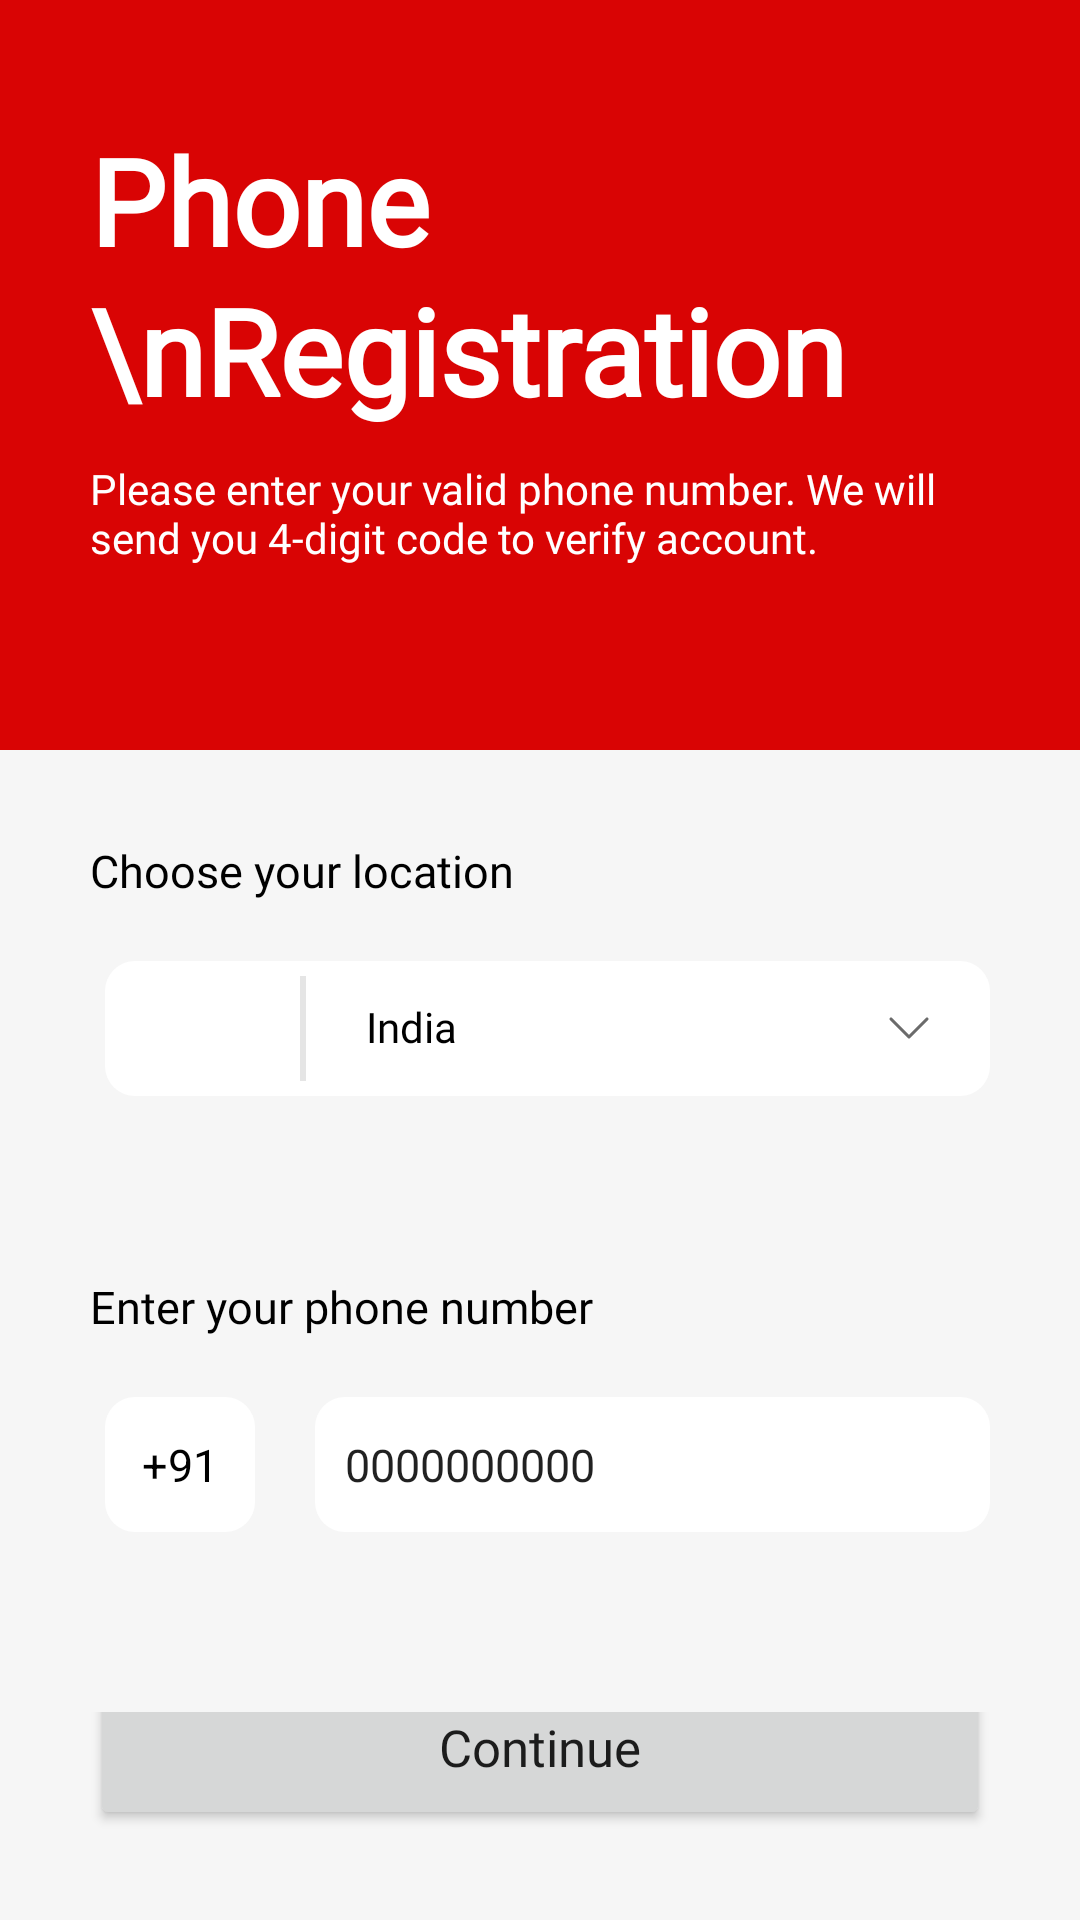

Icons on this 1080x1920 Android screen, each with its box as (x1, y1, x2, y2):
drop down: (889, 1017, 929, 1039)
